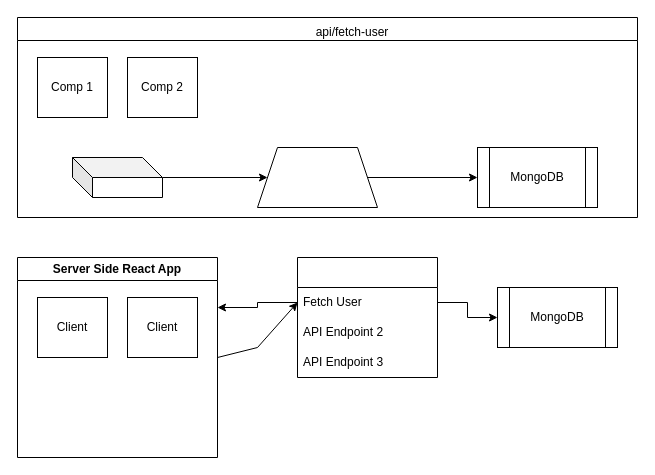
The diagram is 655 pixels wide and 475 high, and some of its shapes have lost their labels. Each missing label, with the box of its shape:
JS func: (256, 146, 378, 208)
Node.js Server: (296, 256, 438, 378)
Server Side Render Page: (16, 16, 638, 218)
